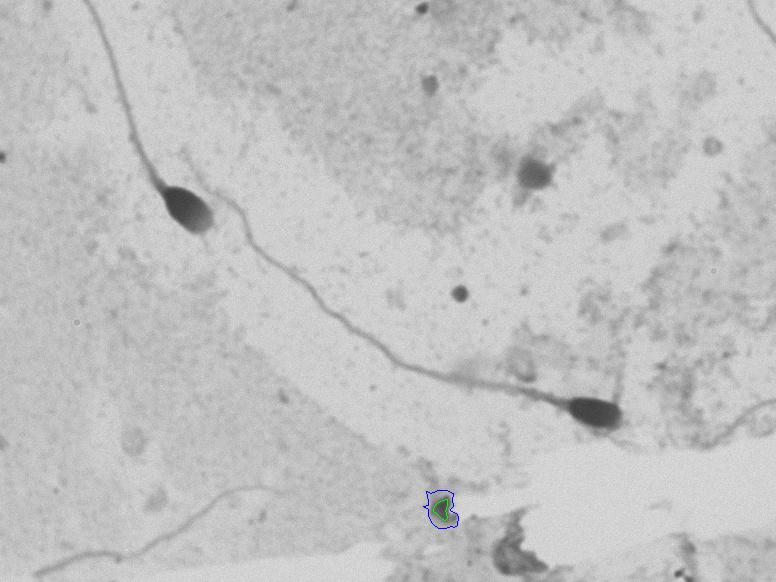Abnormal: (239, 231, 674, 443)
Normal: (75, 8, 218, 261)
